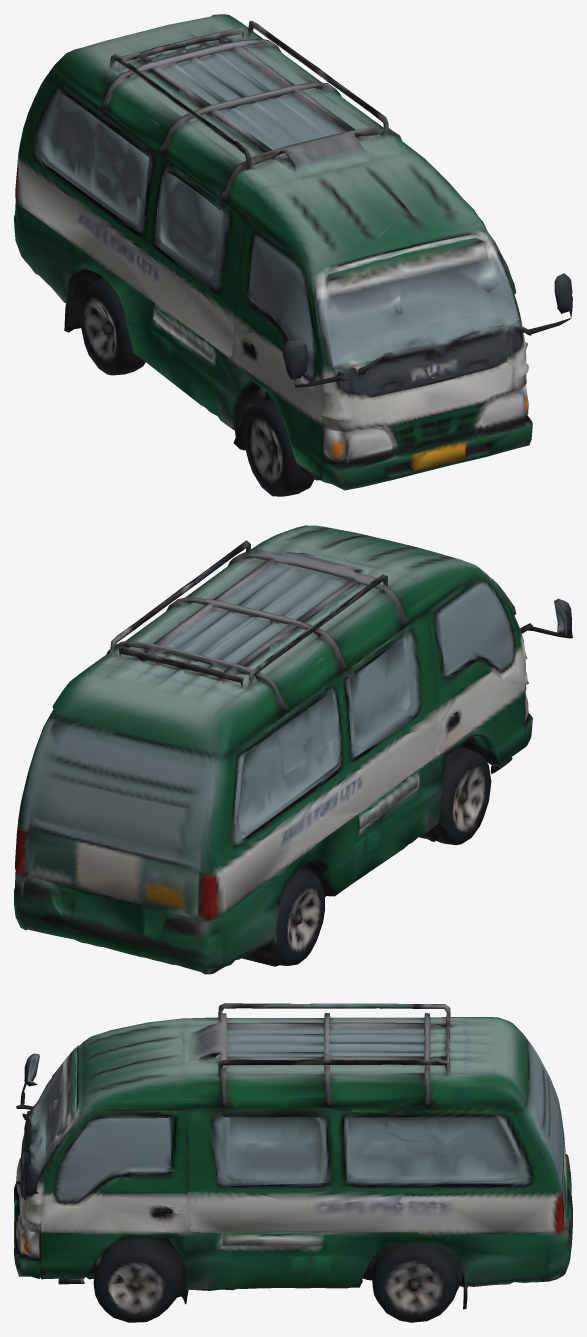
Rendered from angkot.glb.
3 renders of one model, top to bottom at view 1: azimuth 30°, elevation 25°; view 2: azimuth 150°, elevation 25°; view 3: azimuth 270°, elevation 25°, orthographic. The views are drawn at different scales.
Parts seen in each view (by area): view 1: tripo_node_5af0fbdc; view 2: tripo_node_5af0fbdc; view 3: tripo_node_5af0fbdc.
Part boxes in pixels (x1,y1,x2,y2): tripo_node_5af0fbdc: (14, 14, 572, 496); tripo_node_5af0fbdc: (14, 525, 572, 974); tripo_node_5af0fbdc: (14, 1003, 572, 1322).
Bounding box in the file's own units: 49.92 × 49.72 × 100.
1 material, 1 textured.
